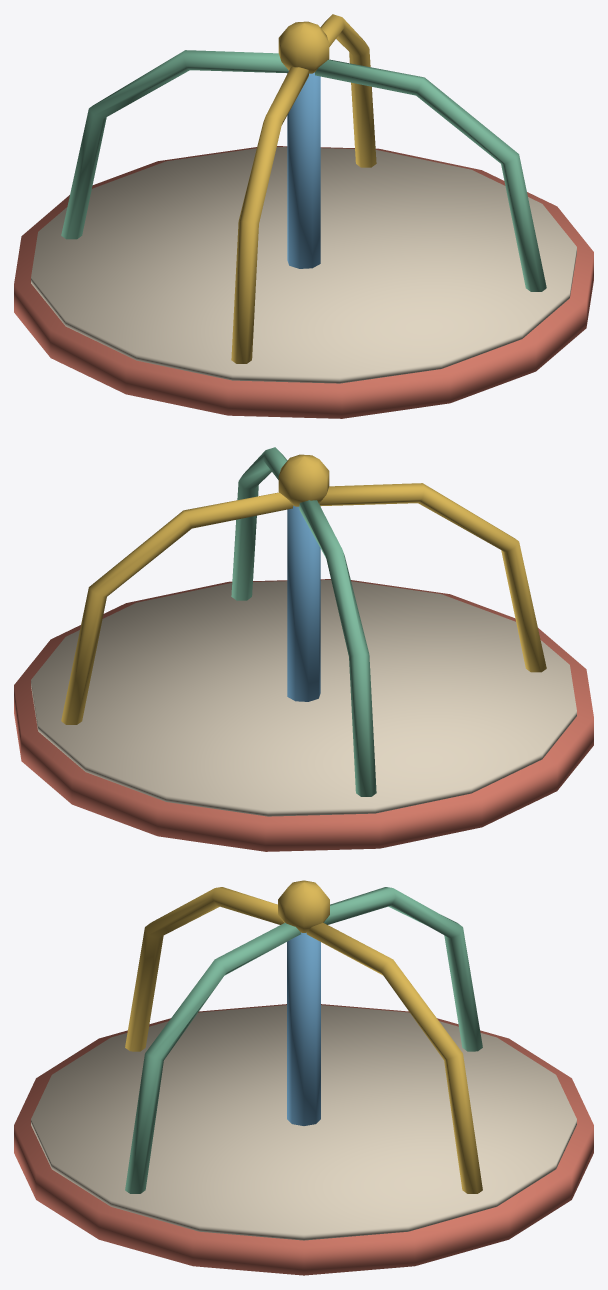
The model's file is play_spinner.glb.
The picture shows the model from 3 angles, top to bottom: view 1: azimuth 30°, elevation 25°; view 2: azimuth 150°, elevation 25°; view 3: azimuth 270°, elevation 25°; orthographic projection.
Parts seen in each view (by area): view 1: Spin; view 2: Spin; view 3: Spin.
Boxes of the visible parts, box(x1,y1,x2,y2) form: Spin: box(14, 14, 593, 418); Spin: box(14, 447, 593, 851); Spin: box(14, 880, 593, 1275).
Size of the model in its own units: 1.7 by 1.08 by 1.7.
